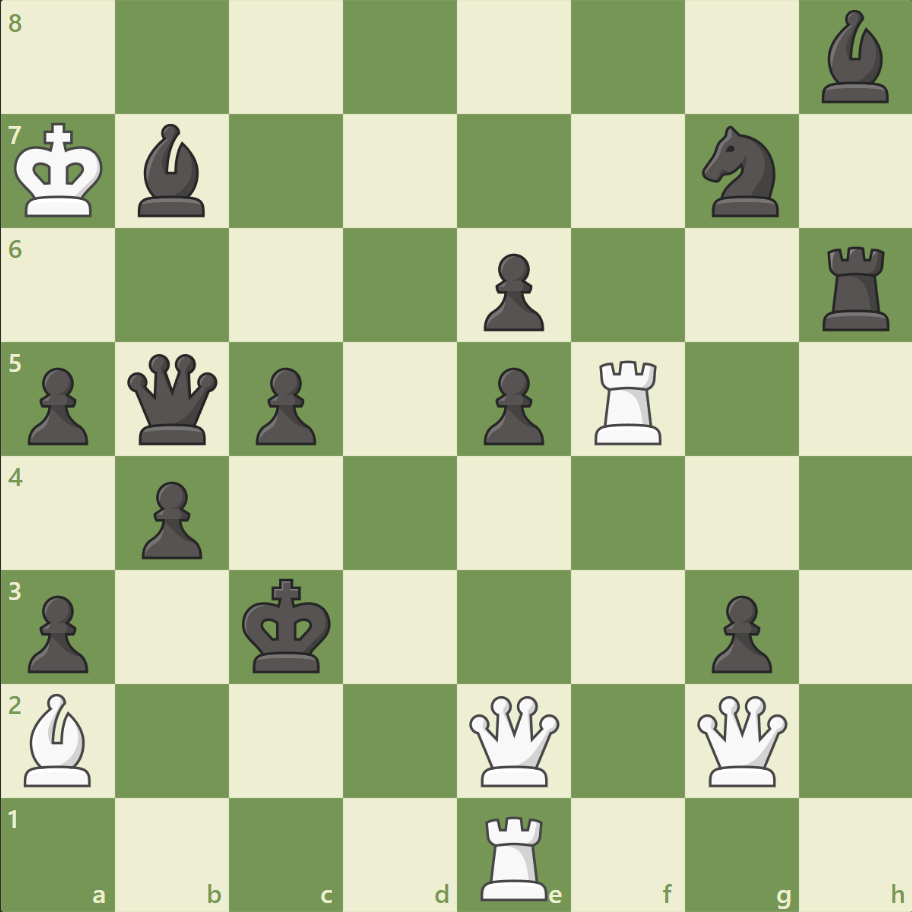B: (17, 687, 101, 790)
K: (11, 117, 111, 225)
Q: (464, 690, 563, 789), (691, 690, 790, 789)
R: (473, 806, 556, 904), (587, 352, 670, 449)
b: (812, 6, 896, 109), (131, 120, 215, 222)
k: (238, 571, 338, 679)
n: (692, 121, 789, 223)
p: (474, 246, 549, 337), (20, 359, 95, 450), (247, 359, 322, 450), (474, 359, 549, 450), (133, 473, 208, 564), (20, 586, 95, 677), (701, 586, 776, 677)
q: (124, 349, 223, 449)
r: (814, 239, 897, 336)
